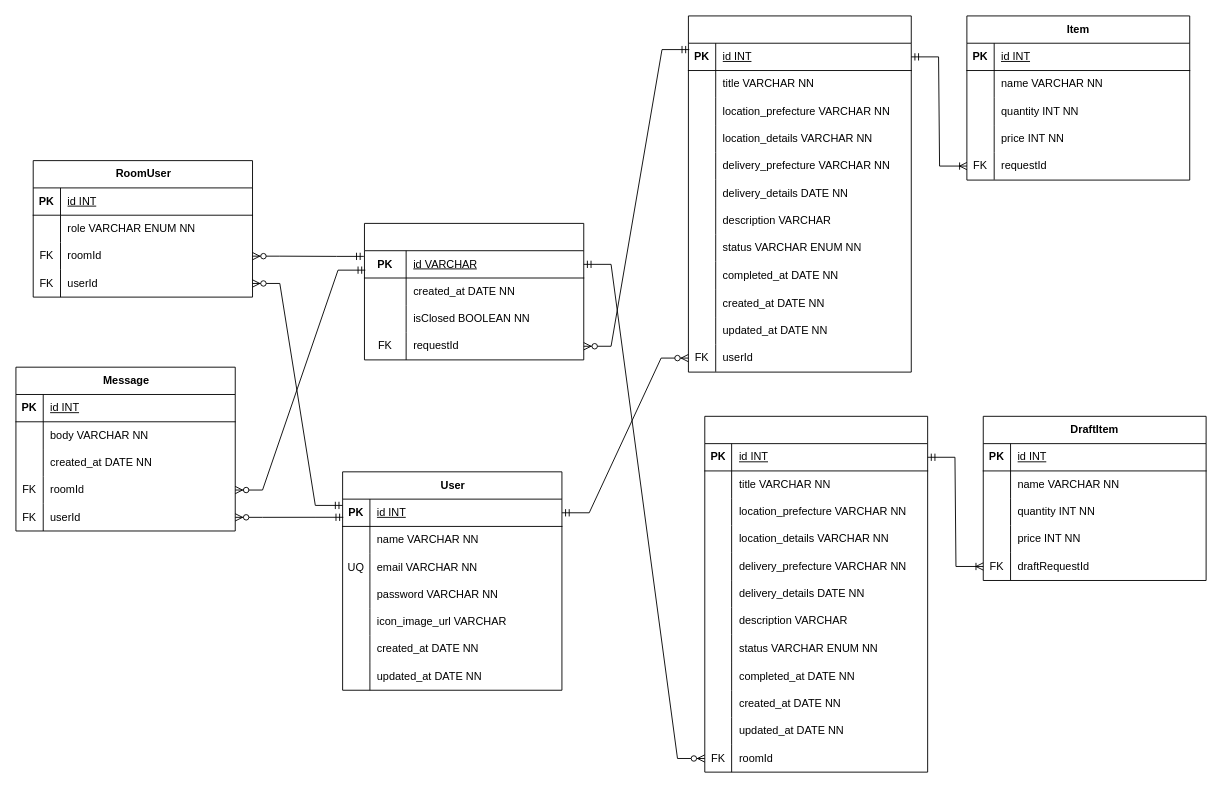
Some shapes in this 1222 by 788 pixel diagram are drawn without their labels. Here are the shapes that lost their labels. From the top down, the box of each, then its label:
(688, 15, 911, 372): Request
(364, 222, 584, 360): Room
(704, 415, 928, 772): DraftRequest
